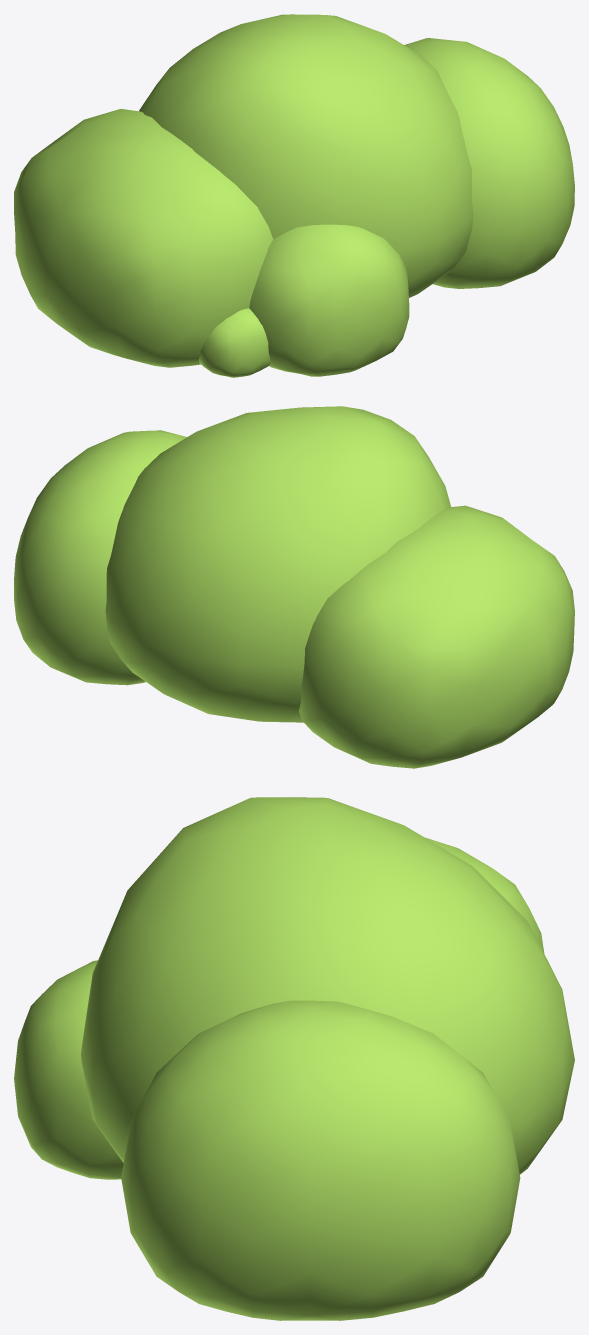
Rendered from arbusto uv.fbx.
3 renders of one model, top to bottom at view 1: azimuth 30°, elevation 25°; view 2: azimuth 150°, elevation 25°; view 3: azimuth 270°, elevation 25°, orthographic. The views are drawn at different scales.
Visible parts, largest first — view 1: Esfera geodésica.004; view 2: Esfera geodésica.004; view 3: Esfera geodésica.004.
Part boxes in pixels (x1=…): Esfera geodésica.004: x1=14, y1=14, x2=574, y2=377; Esfera geodésica.004: x1=14, y1=406, x2=574, y2=768; Esfera geodésica.004: x1=14, y1=797, x2=574, y2=1320.
Size of the model in its own units: 348 by 176 by 247.
